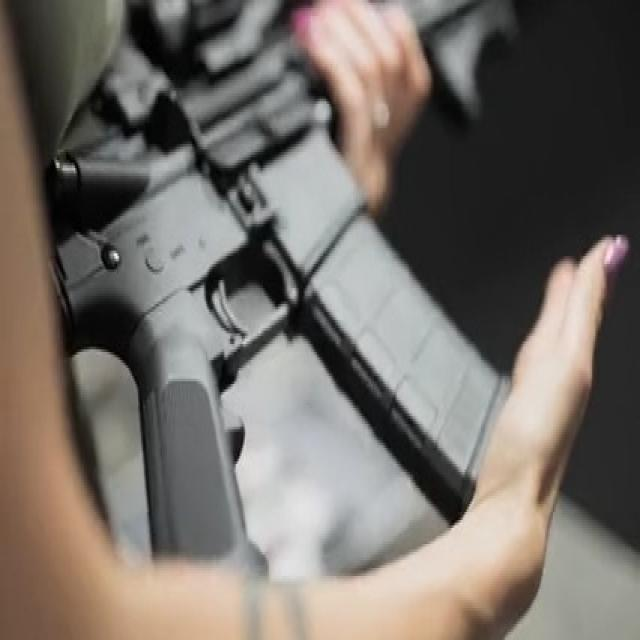Gun_Holder: (50, 18, 612, 580)
